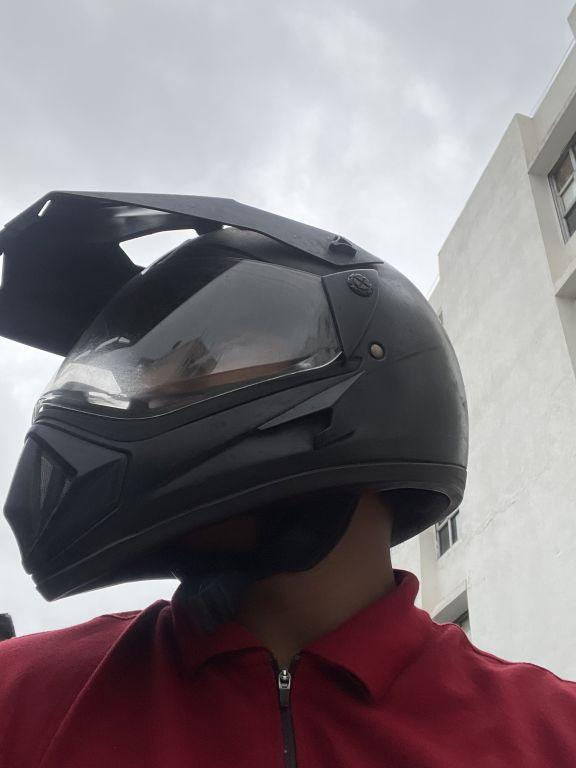helmet: (0, 150, 476, 613)
